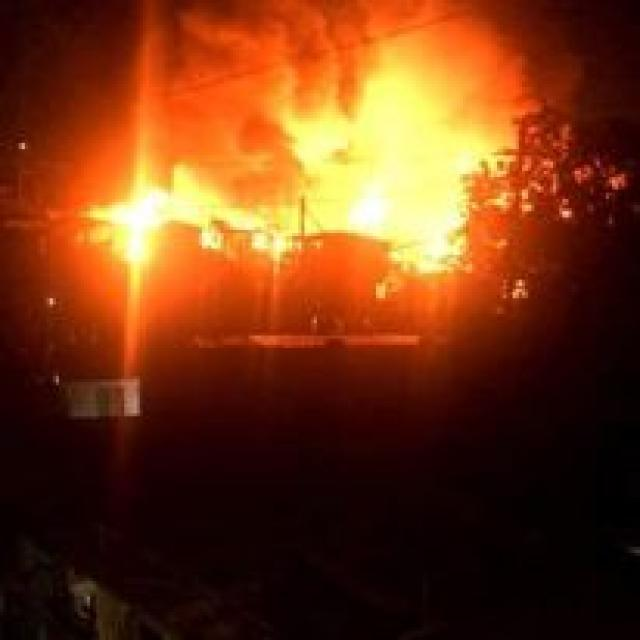Fire: (328, 150, 496, 294), (100, 166, 176, 274)
